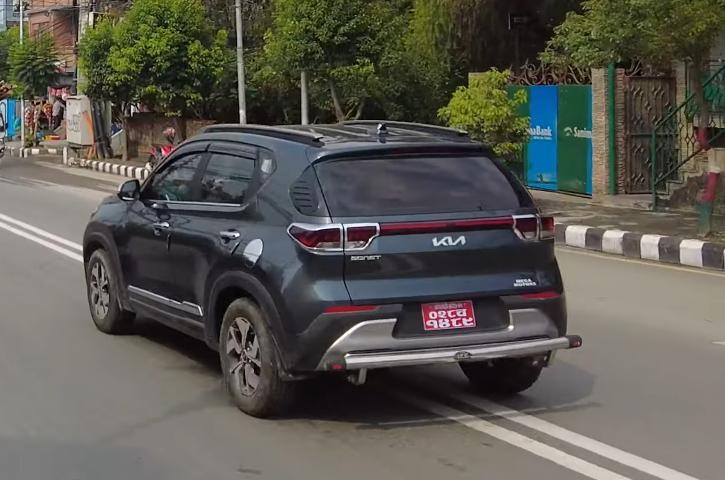car: (87, 114, 582, 421), (76, 110, 91, 116)
